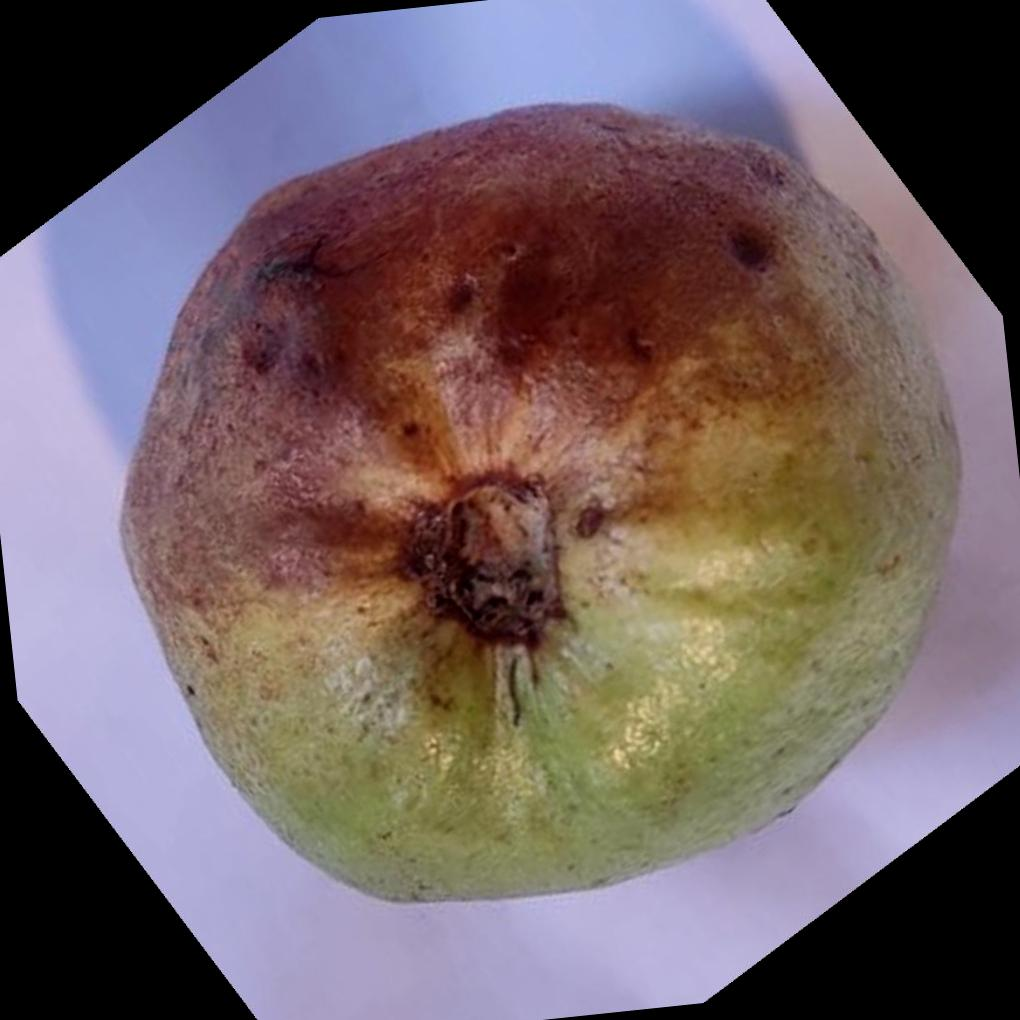FreshOrange: (117, 102, 965, 908)
